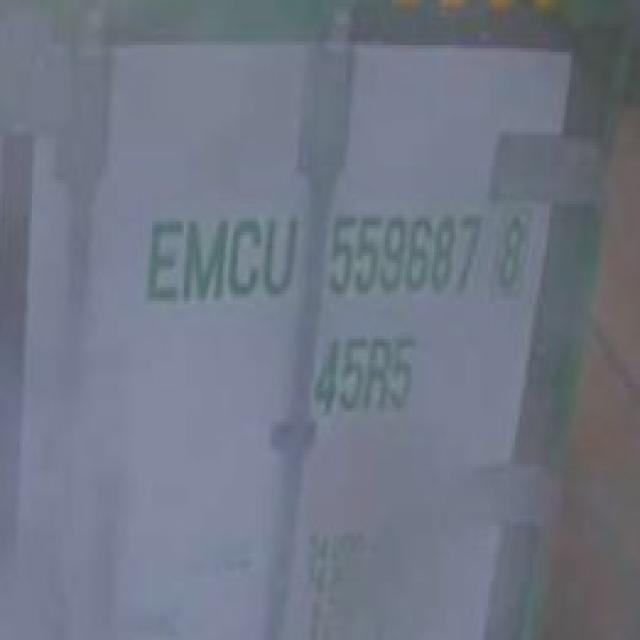dv: (492, 206, 531, 300)
owner: (139, 205, 301, 311)
serial: (323, 204, 484, 303)
size: (308, 327, 421, 415)
